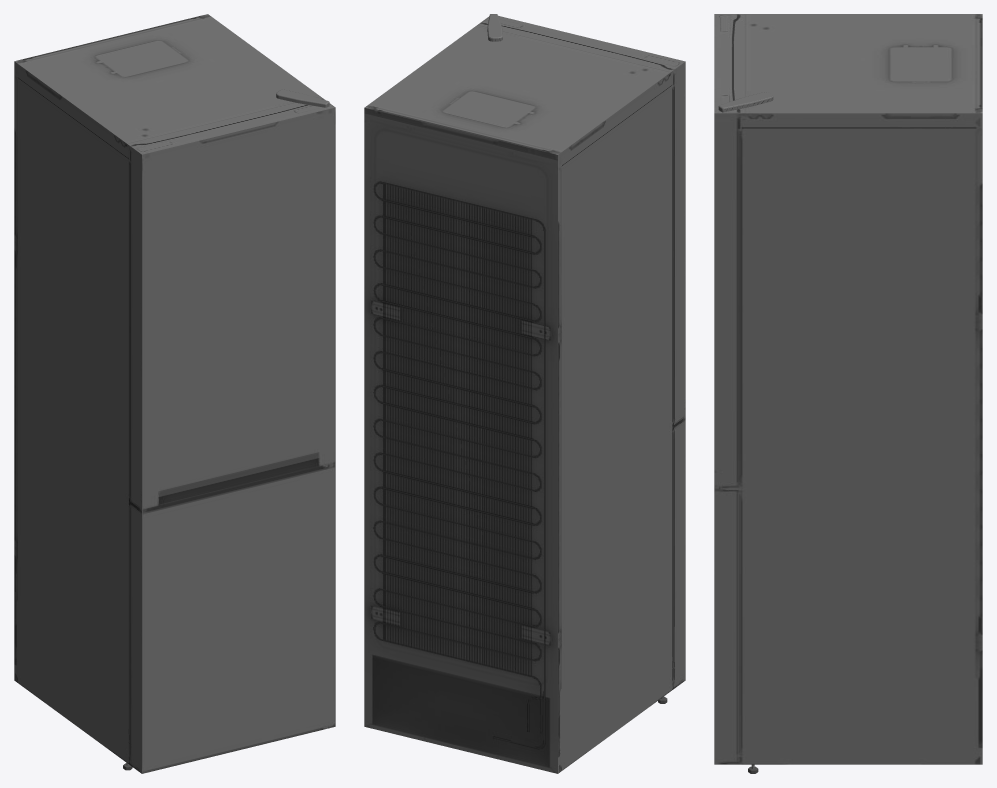
Rendered from 9djf2binj8l1.glb.
3 views of the same model, side by side, from view 1: azimuth 30°, elevation 25°; view 2: azimuth 150°, elevation 25°; view 3: azimuth 270°, elevation 25° (orthographic). The views are drawn at different scales.
Parts seen in each view (by area): view 1: 10568068_01; view 2: 10568068_01; view 3: 10568068_01.
Part boxes in pixels (x1,y1,x2,y2): 10568068_01: (14, 14, 335, 773); 10568068_01: (364, 14, 685, 773); 10568068_01: (714, 14, 982, 768).
Size of the model in its own units: 0.595 by 1.86 by 0.6797.
2 materials, 1 textured.
